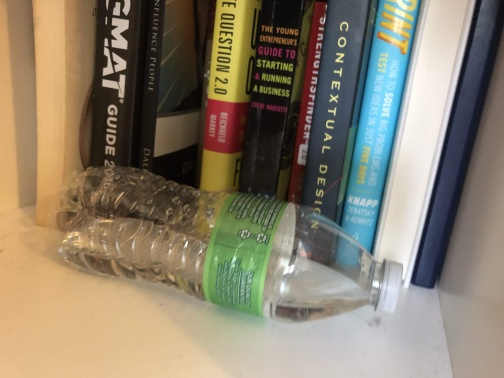bottle: (51, 164, 407, 326)
